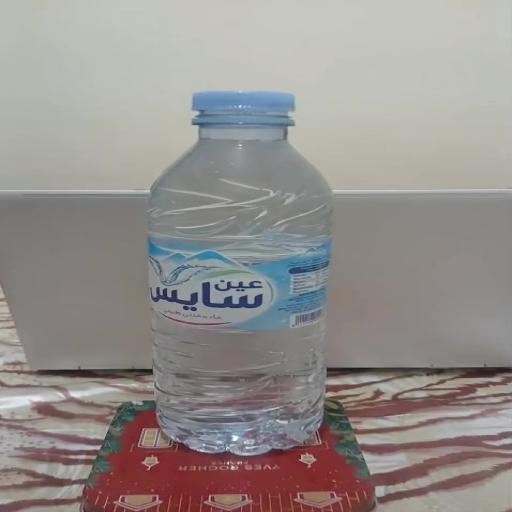bouteille non conformite: (143, 60, 341, 446), (187, 72, 311, 140)
